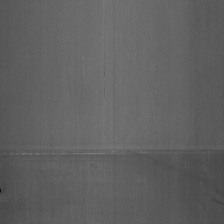welding_line: (1, 143, 224, 161)
